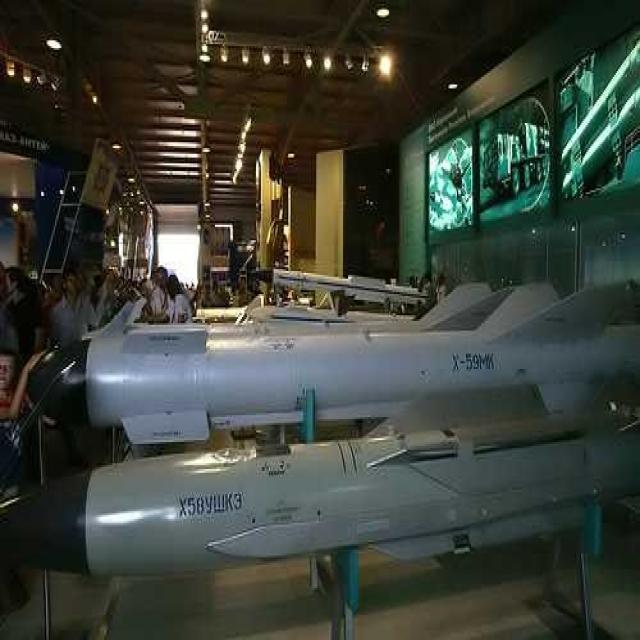missile: (25, 282, 640, 437), (1, 429, 639, 576)
